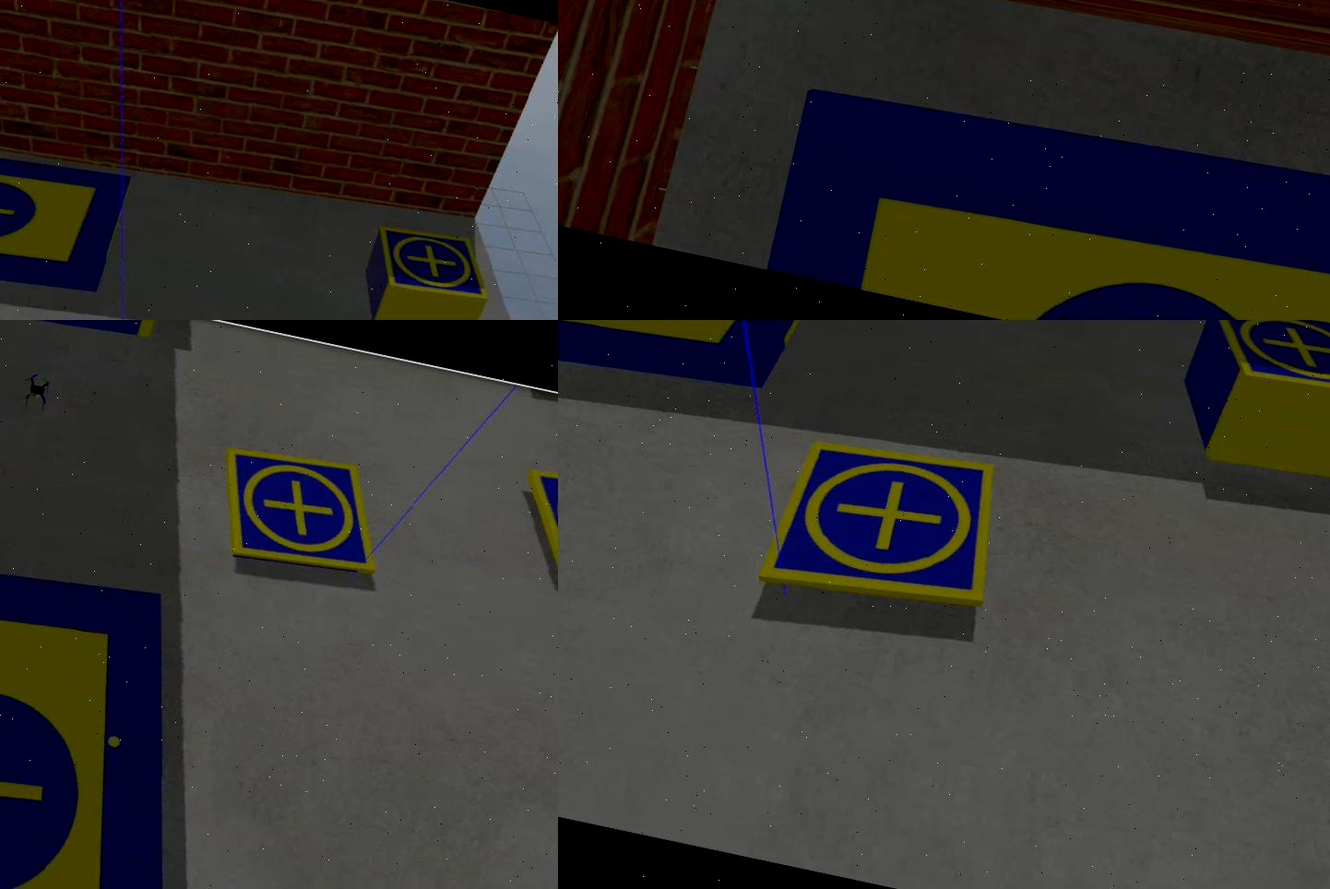large_base: (766, 60, 1330, 321), (1, 527, 269, 889), (1, 109, 130, 321), (558, 321, 839, 406)
small_base: (766, 424, 1012, 627), (208, 441, 398, 587), (368, 219, 503, 308), (1199, 321, 1330, 409), (515, 461, 558, 605)
